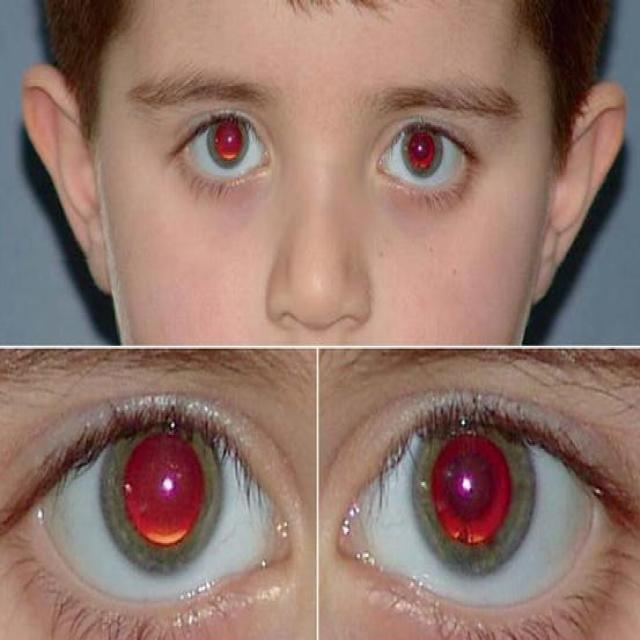reflexo-normal: (70, 424, 242, 586), (409, 390, 542, 587), (384, 102, 471, 208), (188, 108, 265, 189)
